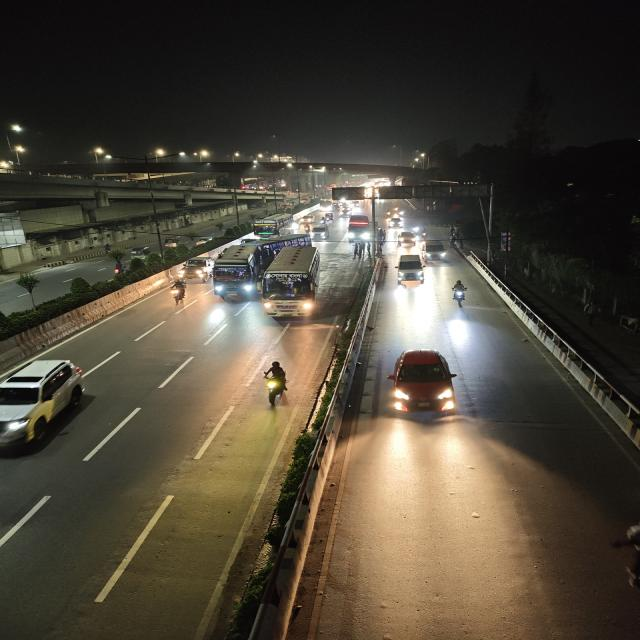bus: (258, 242, 324, 320), (210, 248, 262, 302), (252, 214, 298, 238)
car: (0, 353, 97, 463), (388, 346, 461, 423), (393, 252, 428, 288), (180, 255, 213, 282), (419, 239, 448, 262), (396, 232, 419, 252)
cng: (129, 246, 152, 260), (310, 226, 330, 240), (385, 217, 405, 230)
motorcycle: (255, 358, 294, 412), (448, 279, 473, 309), (164, 279, 190, 307)
truck: (343, 214, 373, 242), (344, 214, 373, 242)
